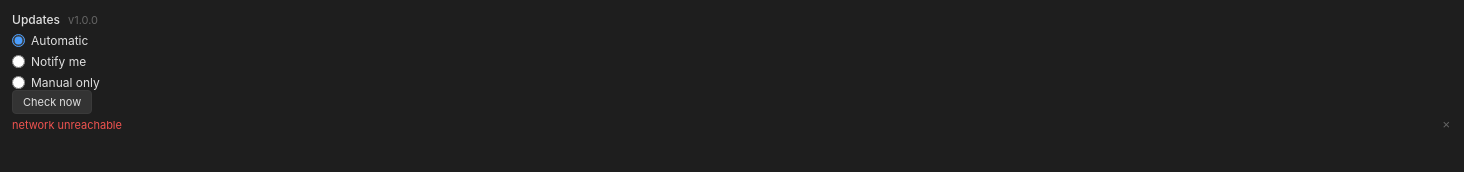
Test: UpdatePanel › frames a Check now failure as a past attempt, not a present fact
What coordinates should you click on to do the following:
click the button "Check now"
I would click on:
 (52, 102)
Its box is left=12, top=90, right=92, bottom=114.
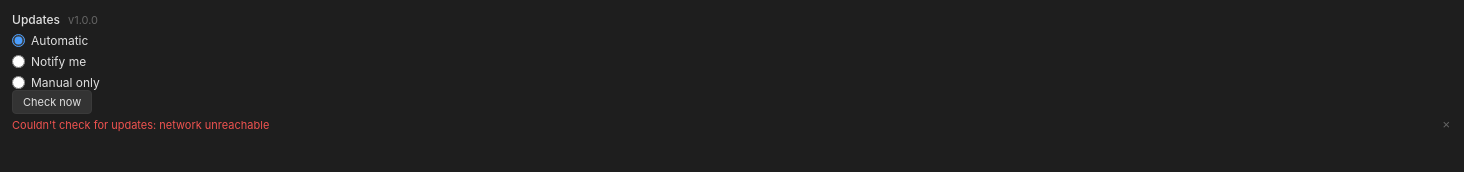
Check: the text "Couldn't check for updates: network unreachable" is shown, box left=12, top=118, right=269, bottom=132
